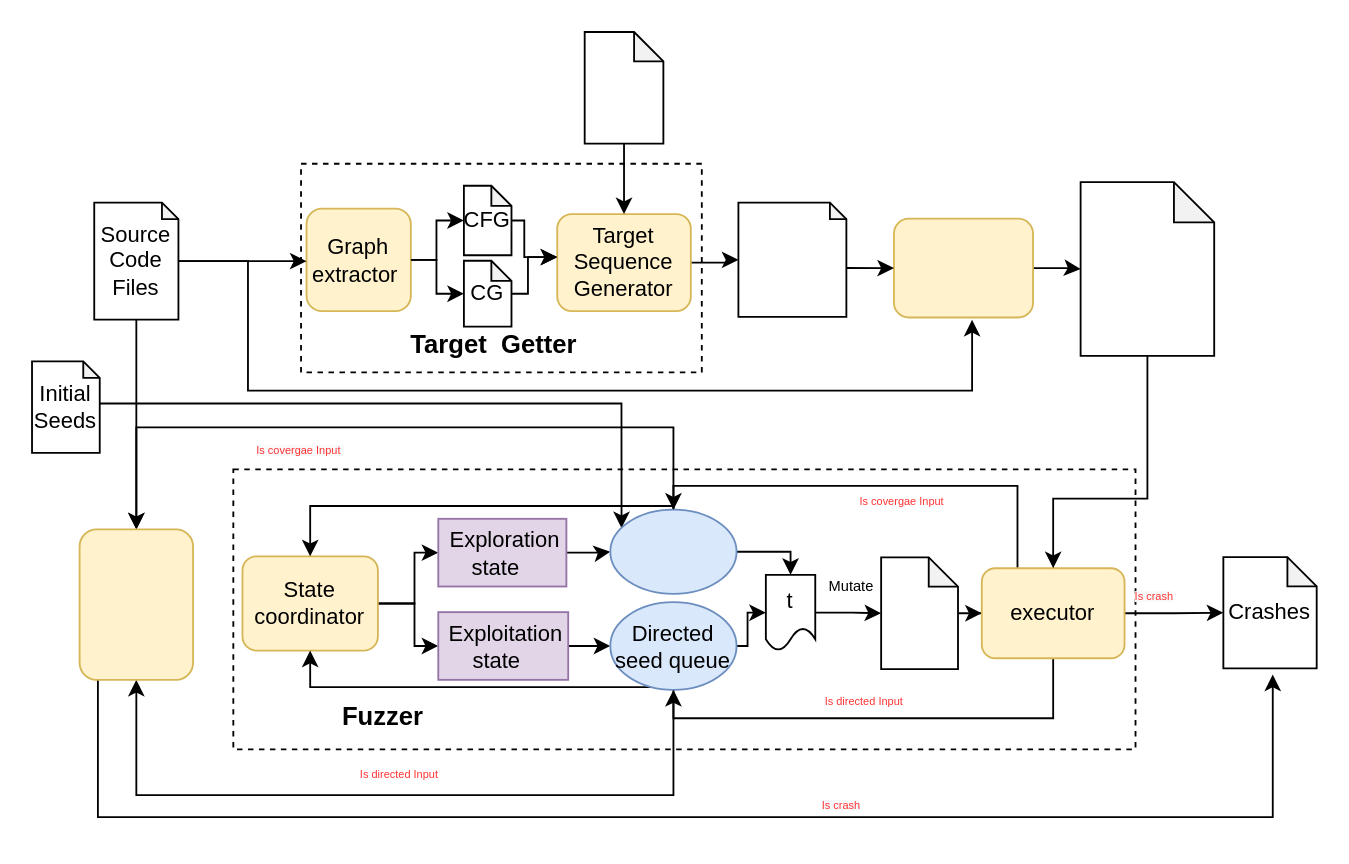
This 1349x864 diagram has some shape labels left out. Here are the shapes that lost their labels. From the top down, the centre of each, then its label:
(623,87): Targets
(791,259): Target Sequence
(962,267): Instrumentor
(1146,268): Instrumented Binaries
(672,551): Coverage seed queue
(135,604): Concolic Executor
(918,612): Input
